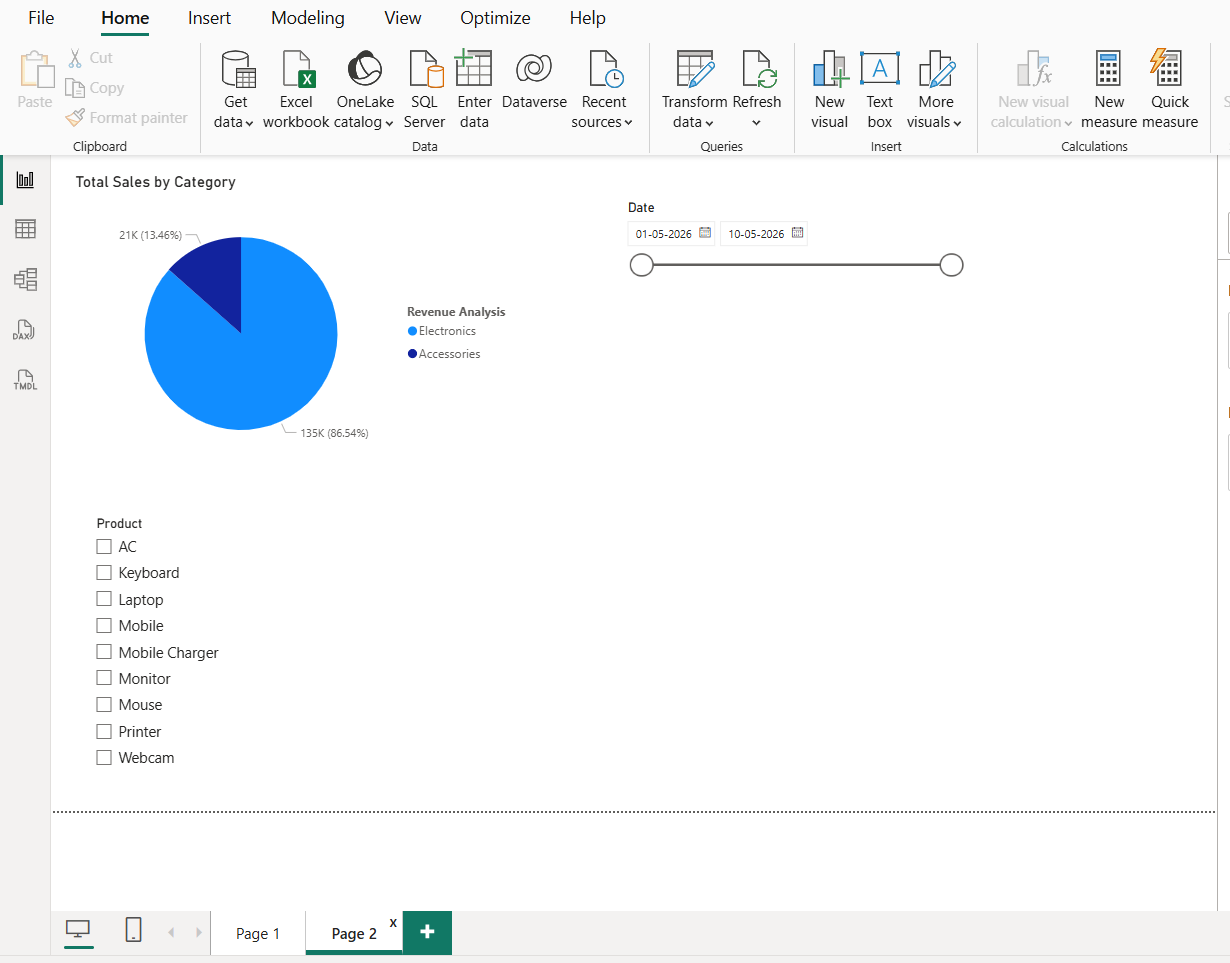

The dashboard page shown, as its layout file describes it:
{"tool":"powerbi","page":{"name":"Page 2","canvas":[1280,720],"ordinal":1},"visuals":[{"type":"pieChart","fields":{"Category":["Sheet1.Category"],"Y":["Sheet1.Total Sales"]},"box":[22,19.2,496.7,334.8],"z":0},{"type":"slicer","fields":{"Values":["Sheet1.Product"]},"box":[37,391.1,447.3,318.4],"z":1000},{"type":"slicer","fields":{"Values":["Sheet1.Date"]},"box":[620.2,43.9,389.7,347.2],"z":2000}]}

Visuals, with their boxes on the page's 1280x720 design canvas (x1, y1, x2, y2). These are canvas units, not pixel positions in the 1230x963 screenshot, which may show the page scaled, cropped or inside an application window:
pieChart - Sheet1.Category x Sheet1.Total Sales: [22, 19, 519, 354]
slicer - Sheet1.Product: [37, 391, 484, 710]
slicer - Sheet1.Date: [620, 44, 1010, 391]
